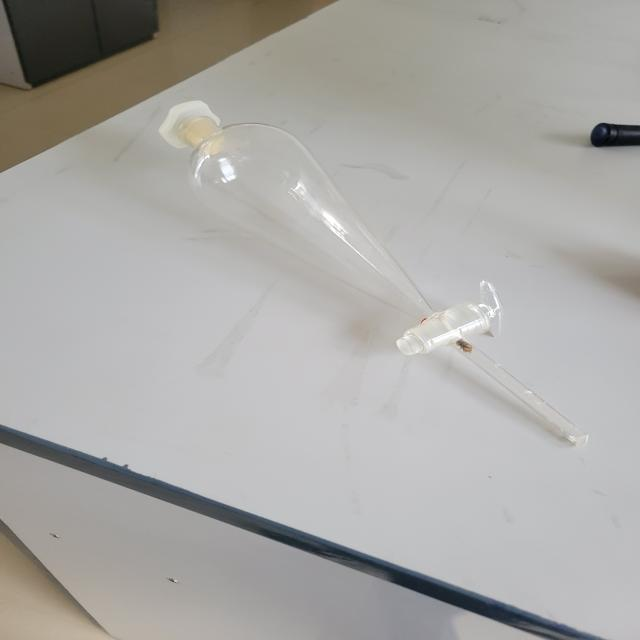Separating_Funnel: (123, 88, 604, 498)
